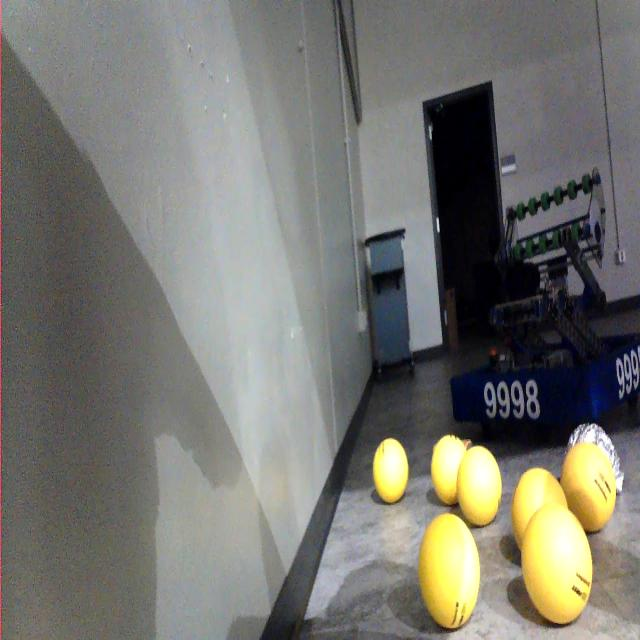Bumper: (438, 338, 640, 424)
fuel: (520, 503, 595, 625), (414, 510, 486, 630), (560, 437, 617, 533), (509, 465, 569, 547), (456, 444, 506, 524), (429, 432, 468, 511), (373, 434, 410, 504)
